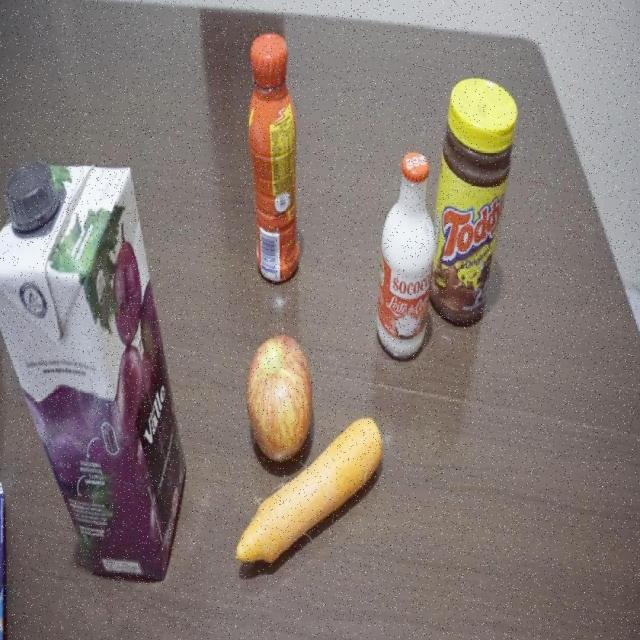Apple: (245, 329, 312, 457)
Carrot: (236, 456, 376, 564)
ChocolateMilk: (247, 32, 301, 281)
ChocolatePowder: (440, 74, 516, 330)
CoconutMilk: (378, 149, 434, 356)
